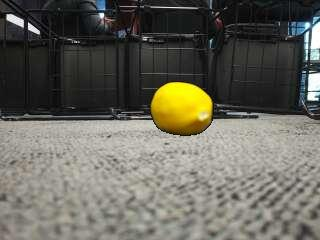lemon: (151, 83, 213, 136)
